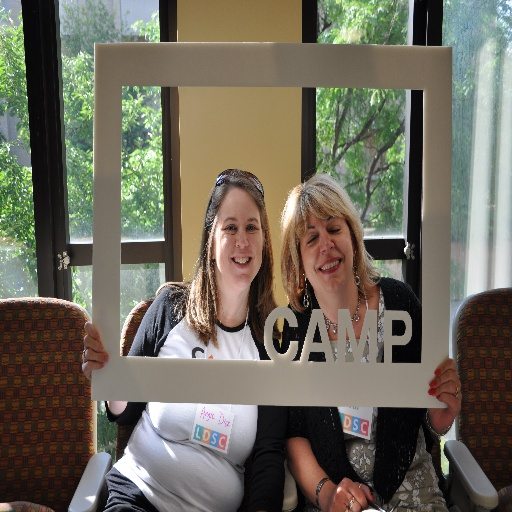hand: (436, 363, 472, 434), (80, 319, 110, 383), (325, 476, 375, 511)
